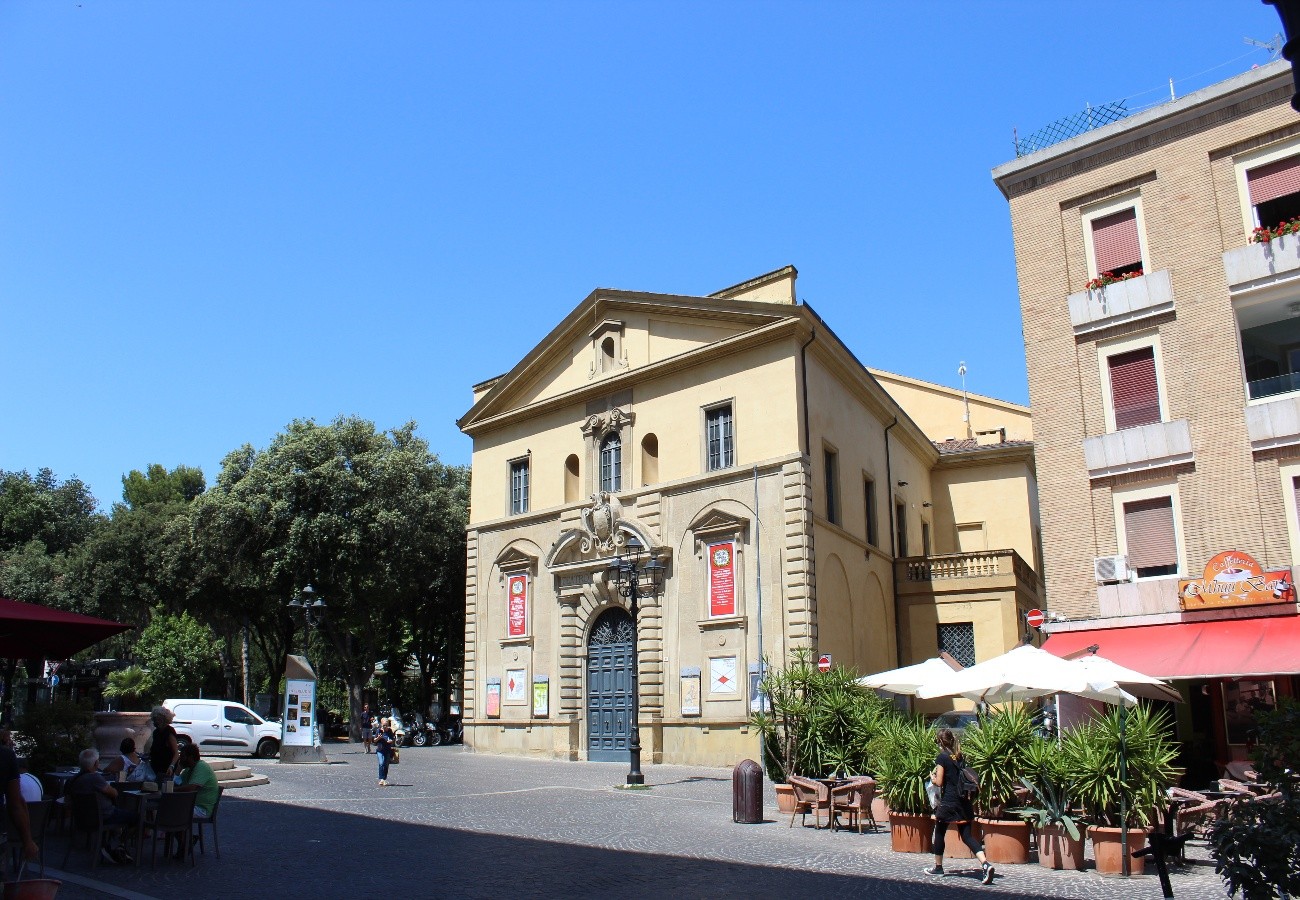Teatro Rossini: (456, 287, 807, 777)
